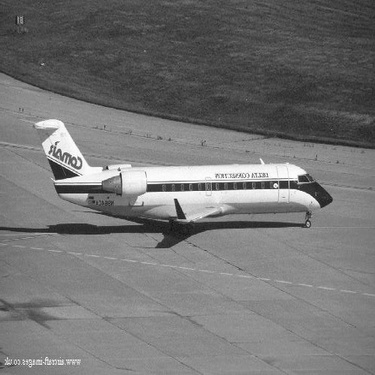airplane: (28, 113, 337, 229)
